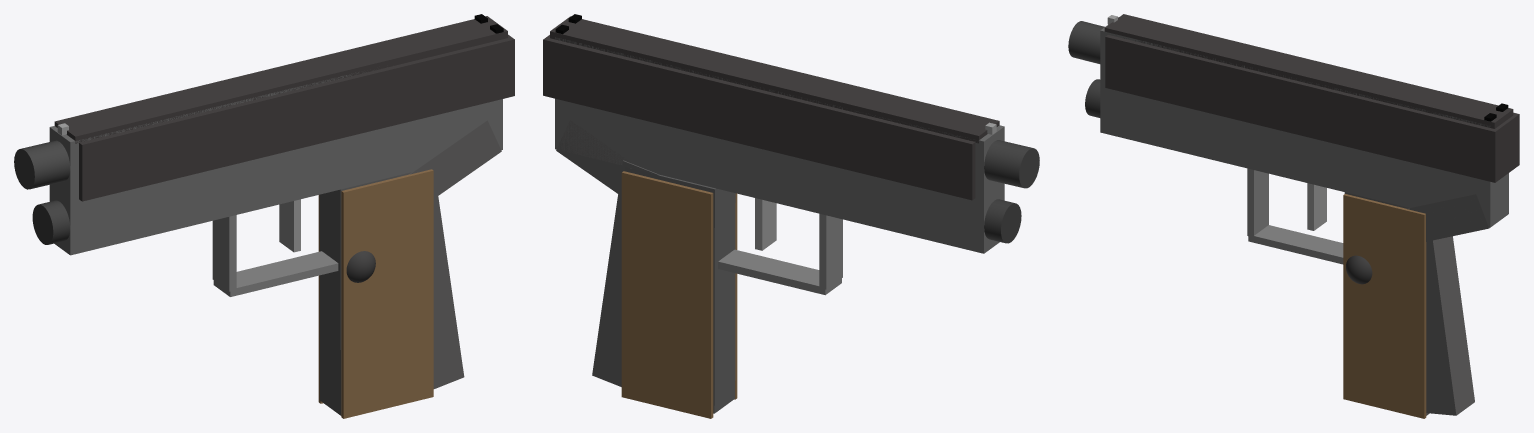
The model's file is pistol.fbx.
3 views of the same model, side by side, from view 1: azimuth 30°, elevation 25°; view 2: azimuth 150°, elevation 25°; view 3: azimuth 330°, elevation 25° (orthographic). The views are drawn at different scales.
Parts seen in each view (by area): view 1: Box9, Box, Box11, Box13, Box4, Box5, Box6, Box7, Cylinder, Box8, Cylinder1, Box10 (+1 smaller); view 2: Box9, Box, Box12, Box13, Box4, Box5, Box7, Box6, Cylinder, Box8, Cylinder1, Box10 (+1 smaller); view 3: Box9, Box, Box11, Box13, Box5, Box6, Box7, Box8, Cylinder, Box10, Sphere1, Cylinder1.
Part boxes in pixels (x1,y1,x2,y2): Box9: (79, 34, 514, 201); Box: (49, 70, 502, 255); Box11: (341, 169, 433, 418); Box13: (54, 16, 507, 143); Box4: (319, 175, 397, 415); Box5: (397, 172, 464, 388); Box6: (409, 120, 501, 198); Box7: (213, 251, 338, 296); Cylinder: (14, 140, 70, 189); Box8: (212, 215, 236, 291); Cylinder1: (32, 200, 70, 244); Box10: (279, 199, 300, 252); Box9: (543, 35, 975, 200); Box: (555, 37, 1004, 253); Box12: (621, 171, 713, 418); Box13: (550, 16, 999, 143); Box4: (625, 167, 735, 413); Box5: (592, 160, 658, 386); Box7: (718, 249, 841, 295); Box6: (556, 120, 631, 193); Cylinder: (984, 140, 1039, 188); Box8: (819, 213, 842, 289); Cylinder1: (984, 199, 1021, 243); Box10: (755, 198, 776, 250); Box9: (1105, 35, 1519, 182); Box: (1100, 17, 1508, 227); Box11: (1343, 194, 1426, 418); Box13: (1104, 14, 1513, 128); Box5: (1396, 205, 1474, 415); Box6: (1406, 194, 1505, 241); Box7: (1248, 225, 1343, 264); Box8: (1247, 168, 1268, 237); Cylinder: (1068, 21, 1104, 63); Box10: (1307, 183, 1326, 230); Sphere1: (1346, 255, 1372, 284); Cylinder1: (1085, 79, 1100, 117).
Size of the model in its own units: 13.23 by 9.33 by 1.45.
